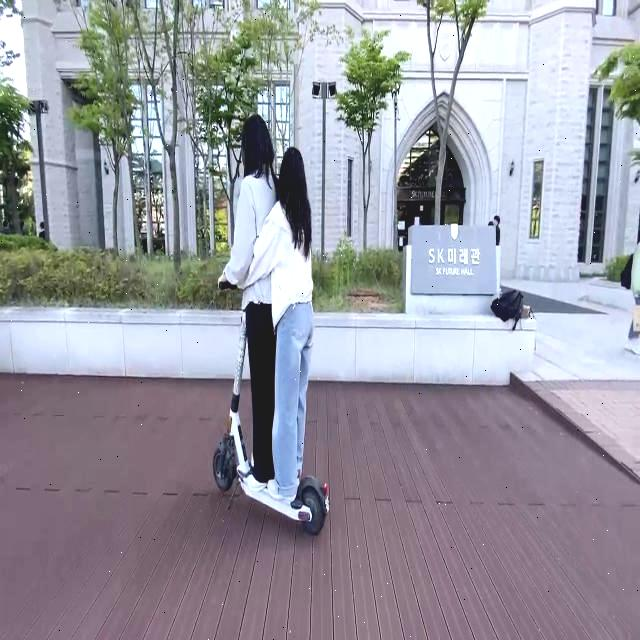bare_head: (230, 113, 284, 181), (267, 141, 314, 204)
human: (223, 113, 292, 500), (254, 149, 326, 499)
kickboard: (198, 415, 340, 539)
